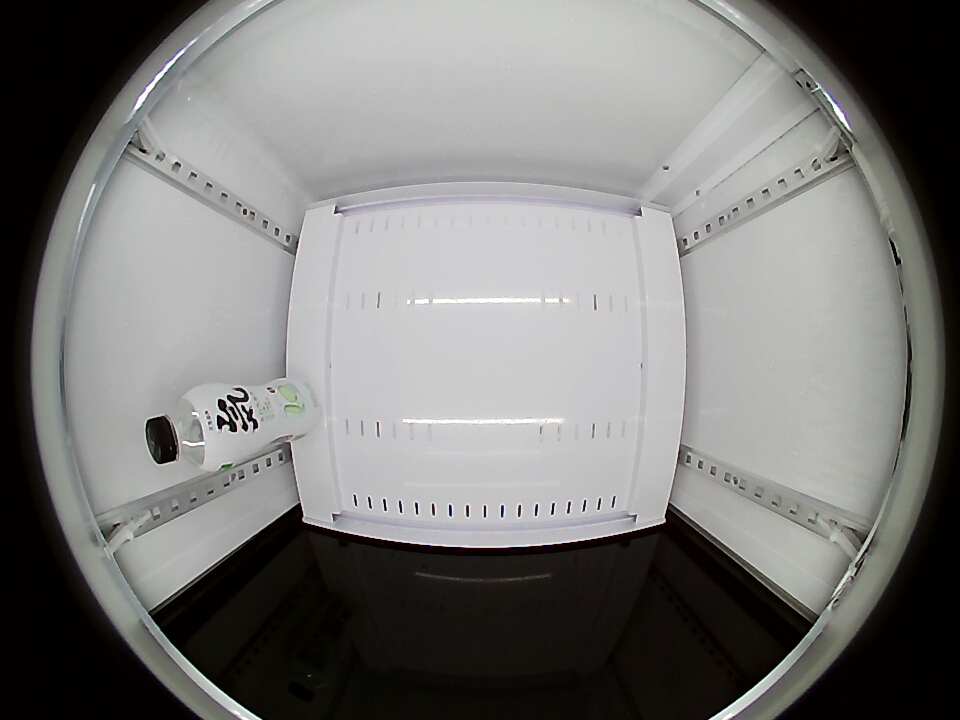yuanqishui: (145, 385, 237, 470)
